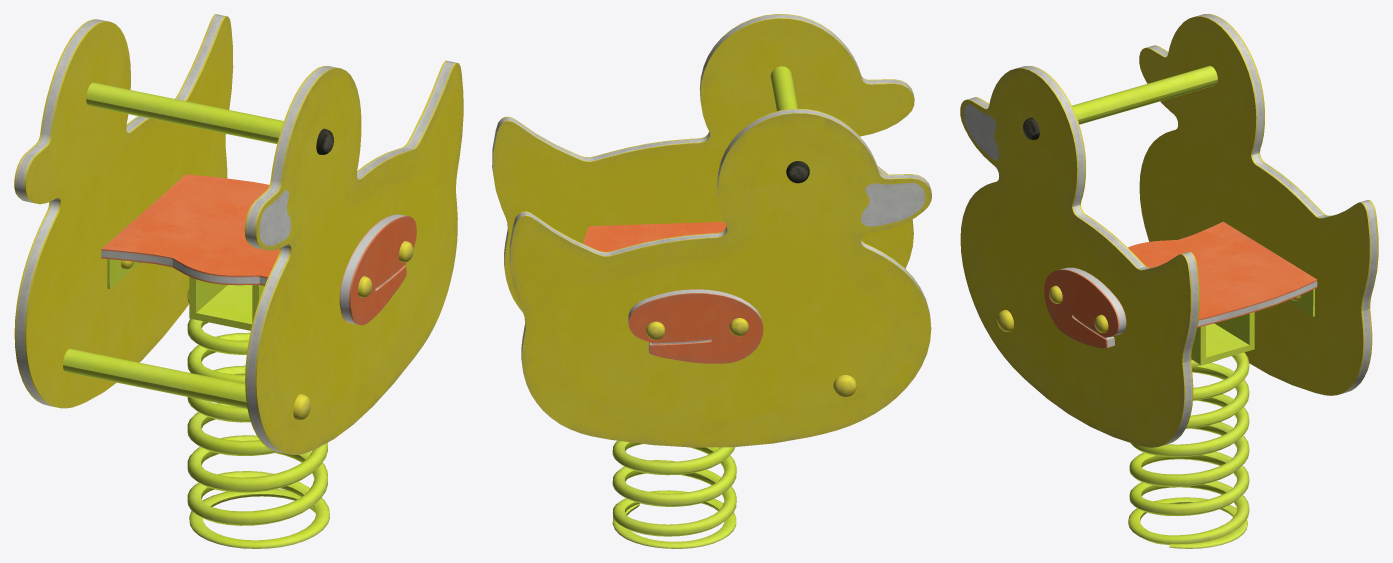
Rendered from molla2_LOD0.fbx.
The picture shows the model from 3 angles, left to right: view 1: azimuth 30°, elevation 25°; view 2: azimuth 150°, elevation 25°; view 3: azimuth 270°, elevation 25°; orthographic projection. The views are drawn at different scales.
Parts seen in each view (by area): view 1: Scooter_Y; view 2: Scooter_Y; view 3: Scooter_Y.
Part boxes in pixels (x1,y1,x2,y2): Scooter_Y: (14,14,463,548); Scooter_Y: (492,14,931,548); Scooter_Y: (960,14,1378,548).
Bounding box in the file's own units: 412 × 431 × 370.
